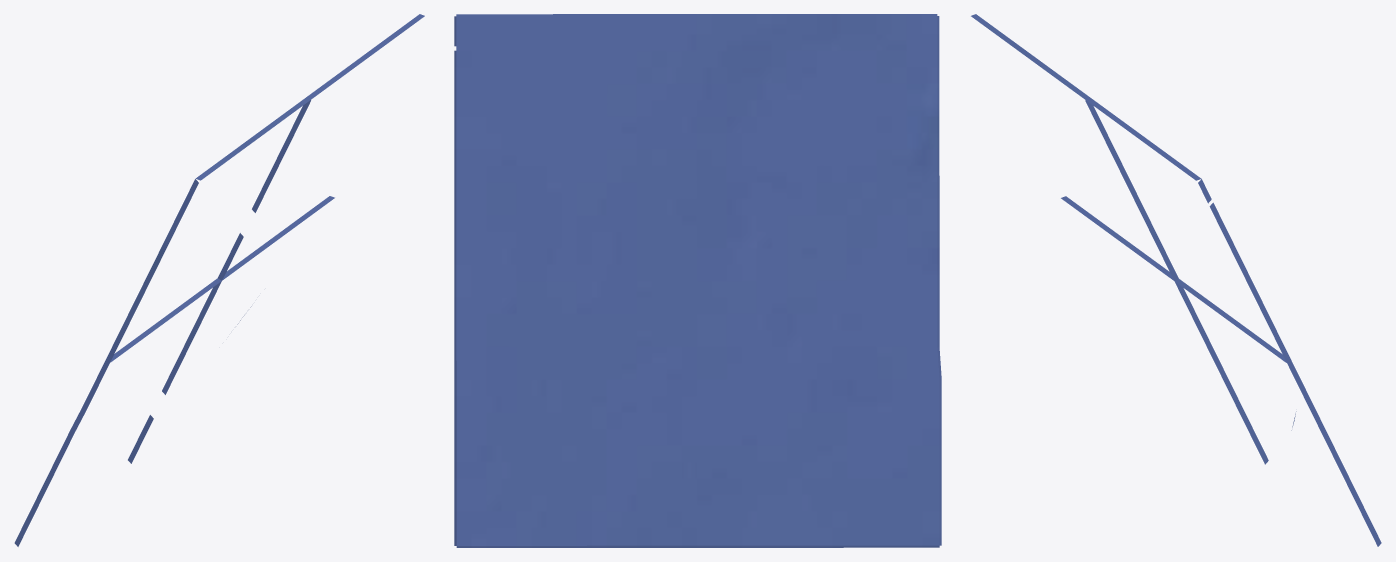
3 renders of one model, left to right at view 1: azimuth 30°, elevation 25°; view 2: azimuth 150°, elevation 25°; view 3: azimuth 270°, elevation 25°, orthographic. The views are drawn at different scales.
Bounding box in the file's own units: 39526 × 35920 × 32500.
Materials: 1 (1 with a texture image).
